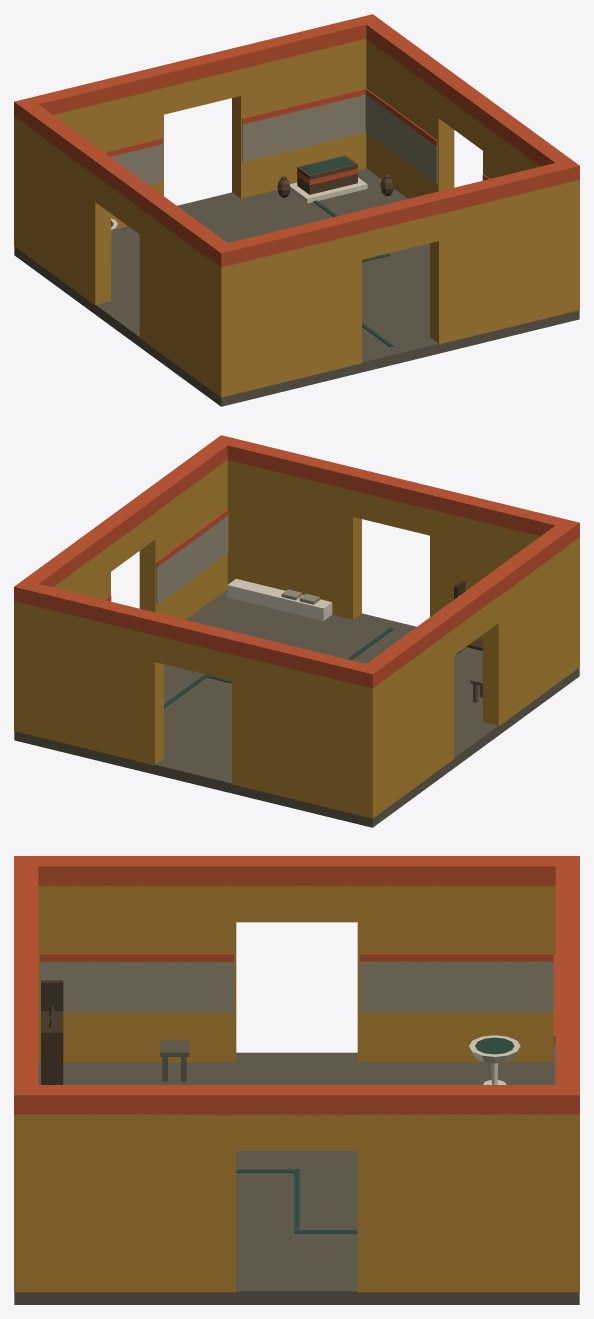
Rendered from BronzeBathRoom.fbx.
3 renders of one model, top to bottom at view 1: azimuth 30°, elevation 25°; view 2: azimuth 150°, elevation 25°; view 3: azimuth 270°, elevation 25°, orthographic. The views are drawn at different scales.
Visible parts, largest first — view 1: BronzeBathRoom; view 2: BronzeBathRoom; view 3: BronzeBathRoom.
Part boxes in pixels (<box>): BronzeBathRoom: <box>14,14,579,406</box>; BronzeBathRoom: <box>14,435,579,827</box>; BronzeBathRoom: <box>14,856,579,1304</box>.
Bounding box in the file's own units: 1202 × 492 × 1202.
Materials: 8 (8 with a texture image).
